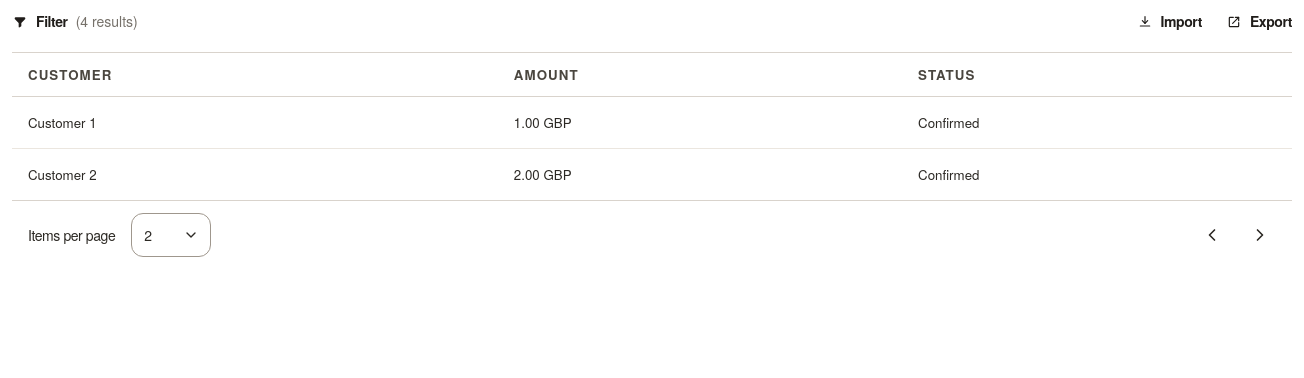
Test: DataTable › updates visible rows when items-per-page value changes
Expected: the text "Customer 1" is shown, [12, 96, 498, 148]
Expected: the text "Customer 2" is shown, [12, 149, 498, 200]
Select "4" in the dropdown labelled "Items per page" at (171, 235), box [131, 213, 211, 257]
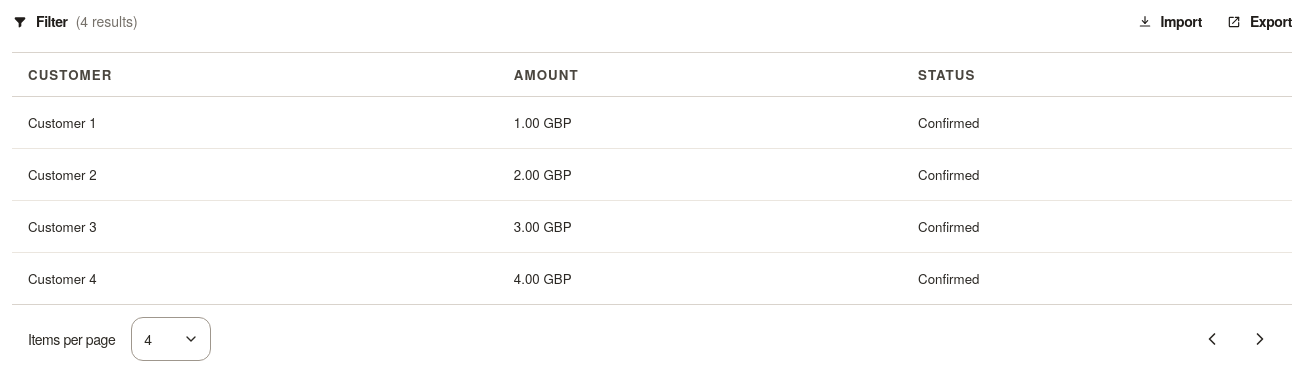
Now the text "Customer 4" is shown, box [12, 253, 498, 304]
